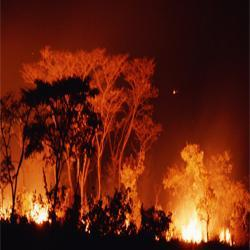fire: (178, 209, 206, 241)
